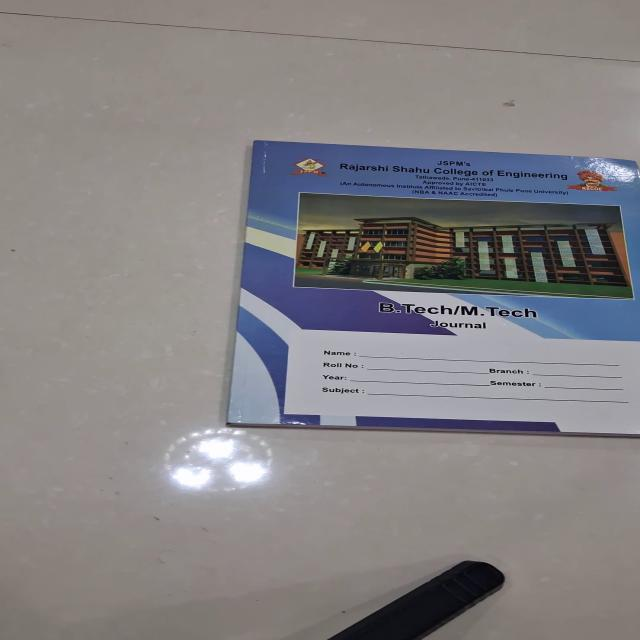paper: (224, 139, 638, 436)
